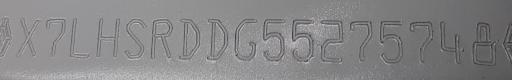letter: (468, 17, 502, 67), (316, 16, 348, 64), (378, 17, 408, 63), (406, 18, 436, 64), (12, 15, 44, 58), (231, 16, 261, 60), (260, 16, 288, 62), (288, 16, 316, 62), (438, 18, 466, 64), (39, 15, 69, 57), (119, 17, 149, 59), (148, 18, 178, 60), (346, 17, 374, 61), (92, 16, 122, 57), (67, 17, 95, 59), (177, 15, 203, 59), (206, 17, 232, 61)
